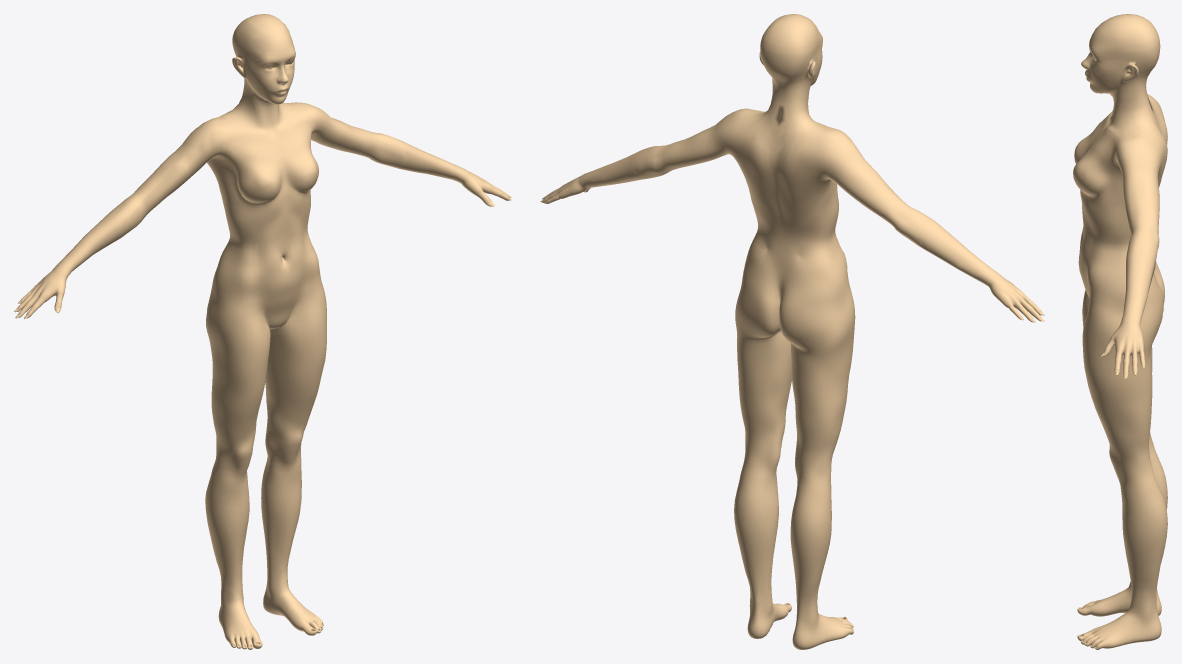
The picture shows the model from 3 angles, left to right: view 1: azimuth 30°, elevation 25°; view 2: azimuth 150°, elevation 25°; view 3: azimuth 270°, elevation 25°; orthographic projection.
Parts seen in each view (by area): view 1: Body; view 2: Body; view 3: Body.
Part boxes in pixels (box(x1,y1,x2,y2)): Body: box(16, 14, 511, 649); Body: box(542, 14, 1041, 649); Body: box(1073, 14, 1167, 649).
Bounding box in the file's own units: 1.58 × 1.85 × 0.2597.
